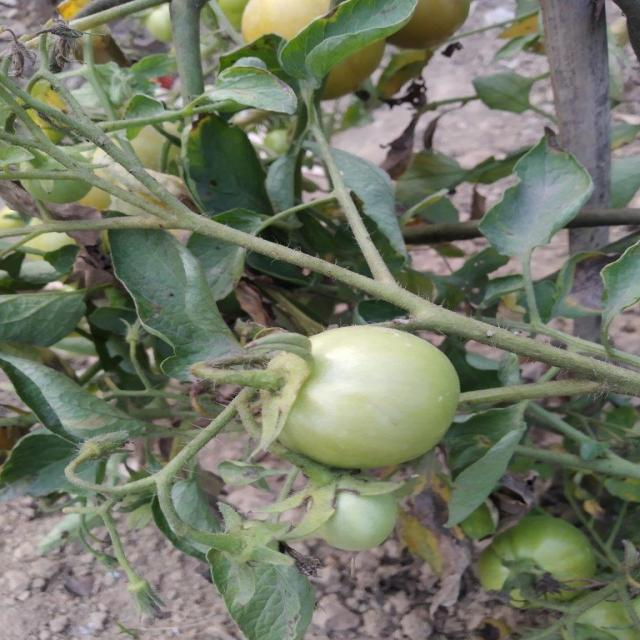Unripe: (257, 323, 462, 471)
